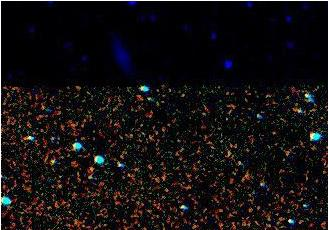star: (77, 154, 107, 184)
